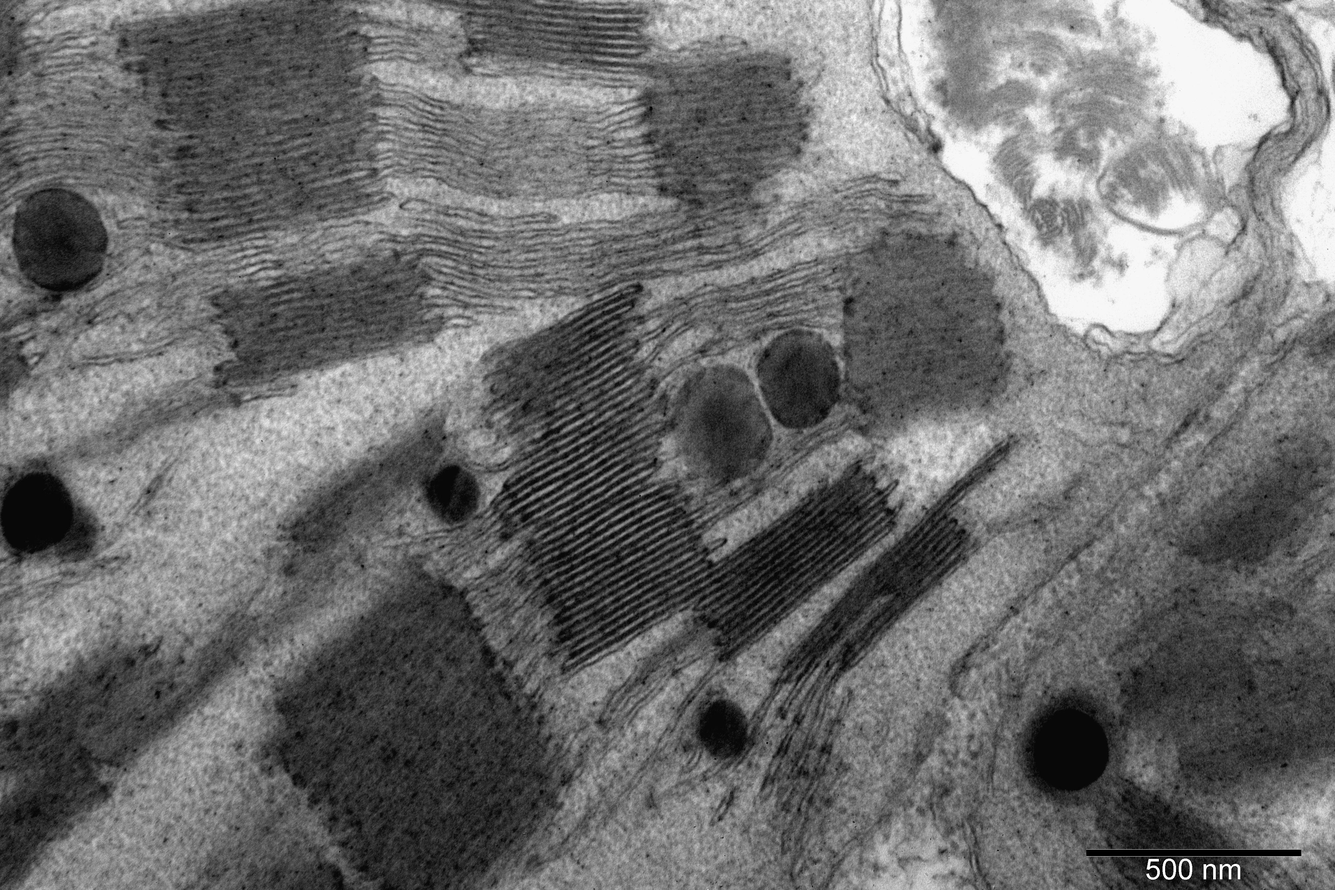granum: (484, 285, 902, 671), (273, 555, 561, 886), (0, 617, 259, 884), (115, 0, 390, 247), (1117, 596, 1332, 797), (832, 225, 1009, 435), (779, 501, 973, 684), (210, 250, 431, 391), (646, 33, 812, 208), (280, 418, 447, 554), (1177, 452, 1326, 576), (1102, 782, 1249, 889), (459, 0, 648, 76), (0, 333, 29, 394)
